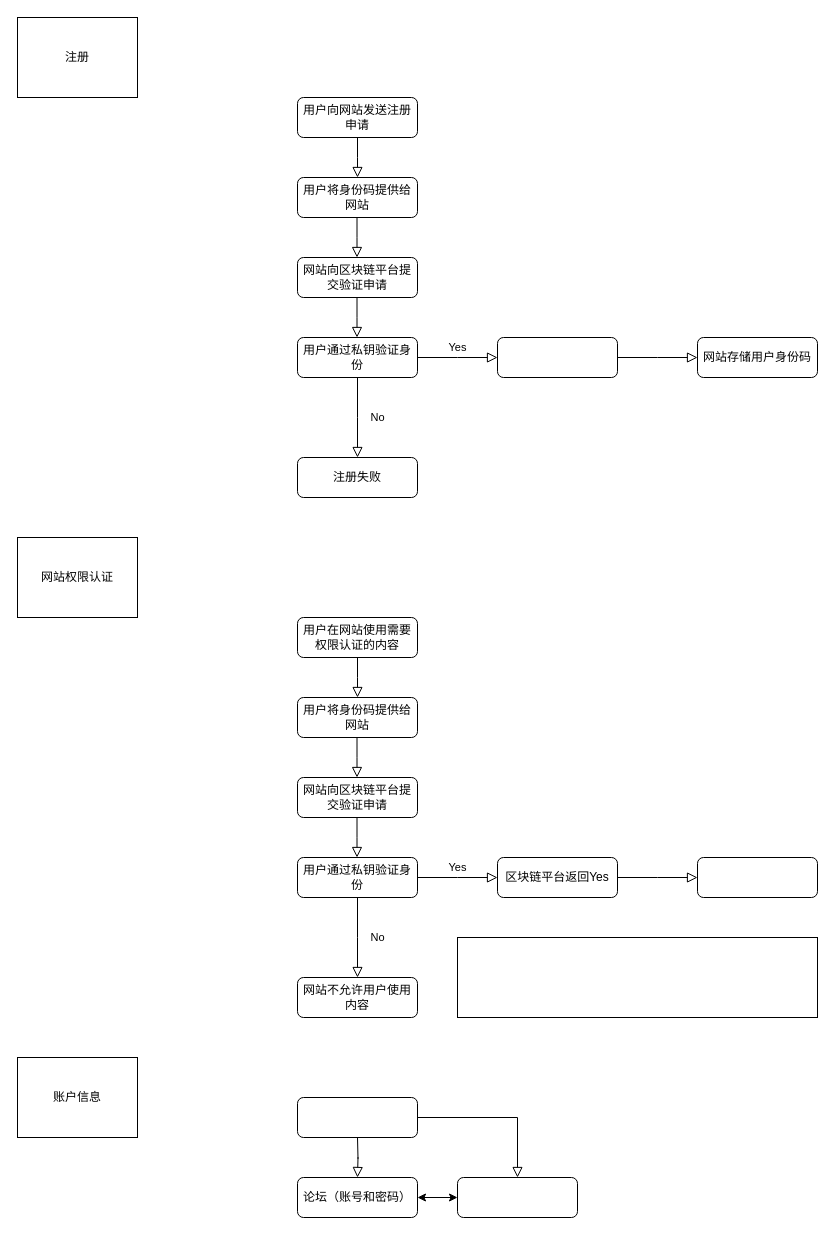
Image size: 835x1235. Some labels were removed from this diagram. Each missing label, with the box of its shape:
PS：用户可以通过设置进行调整，例如，在上一次验证后一定时间内，无需认证。: (456, 936, 818, 1018)
区块链账户（公钥和私钥）: (296, 1096, 418, 1138)
商店（账号和密码）: (456, 1176, 578, 1218)
注册成功: (496, 336, 618, 378)
网站允许用户使用内容: (696, 856, 818, 898)
